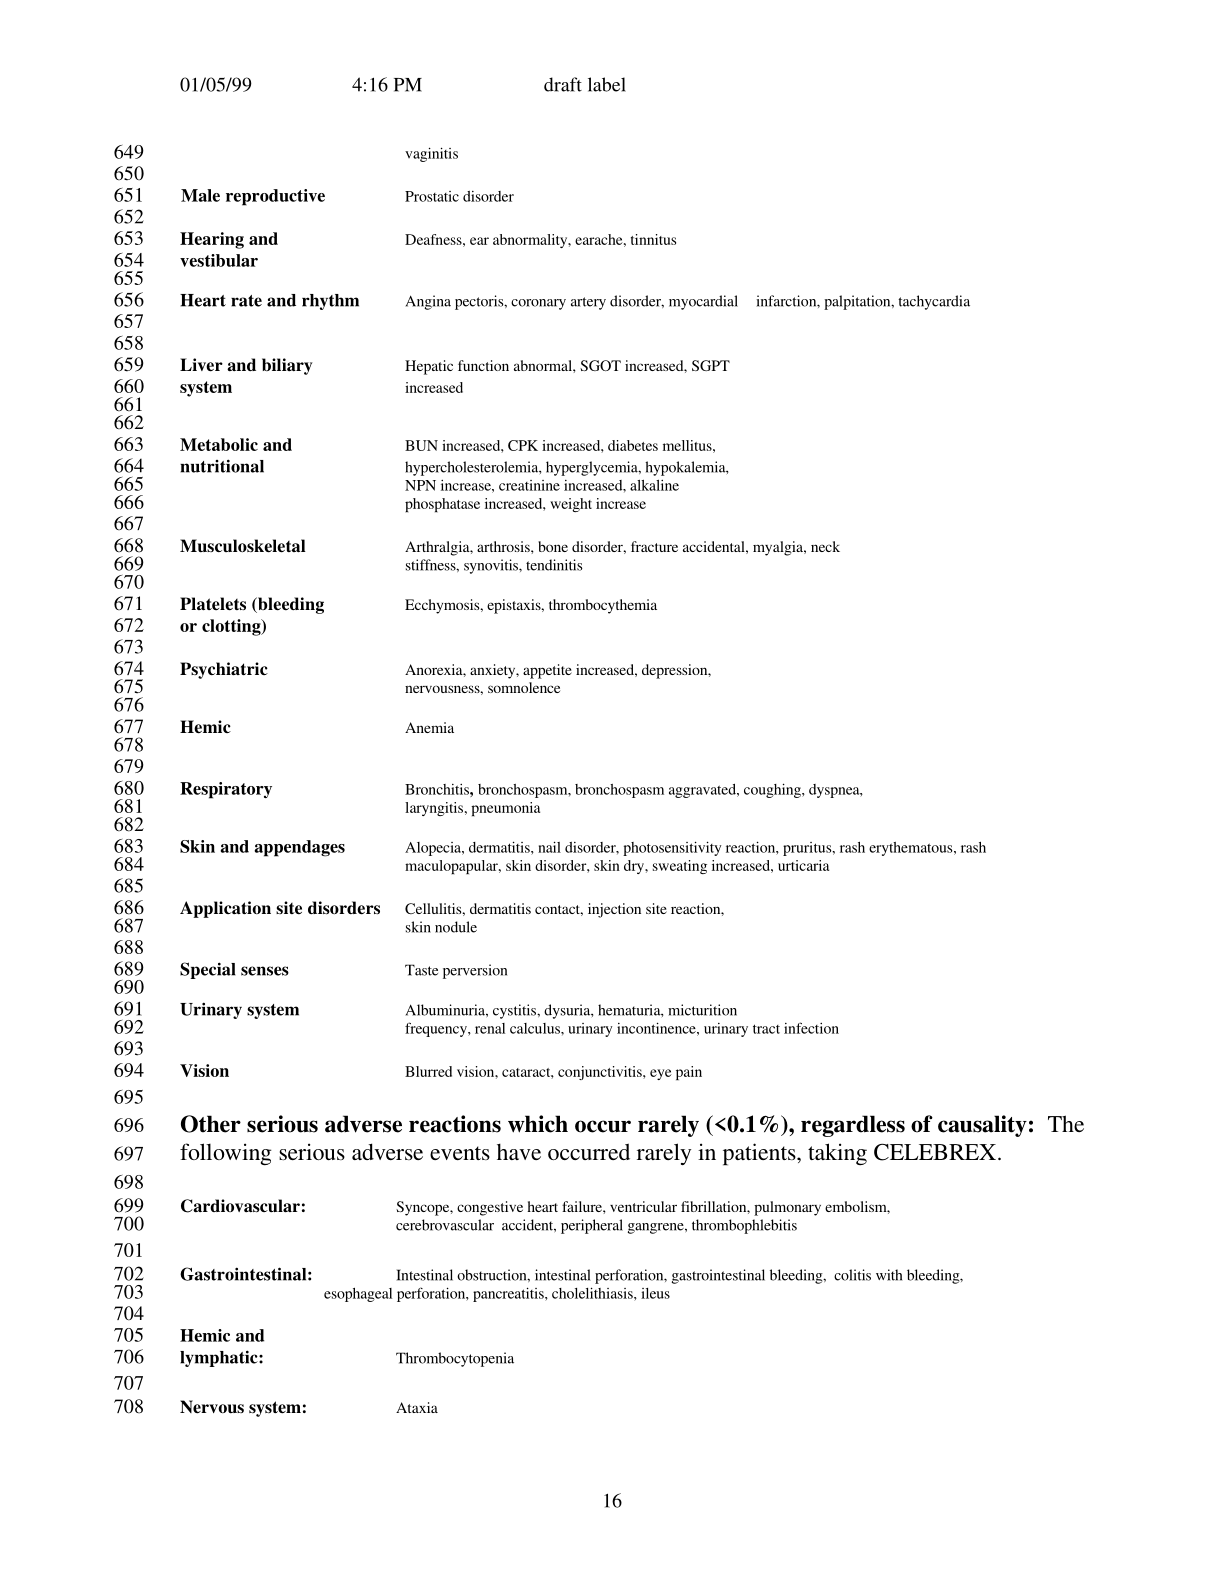nolines: (175, 141, 993, 1085), (175, 1193, 967, 1421)
